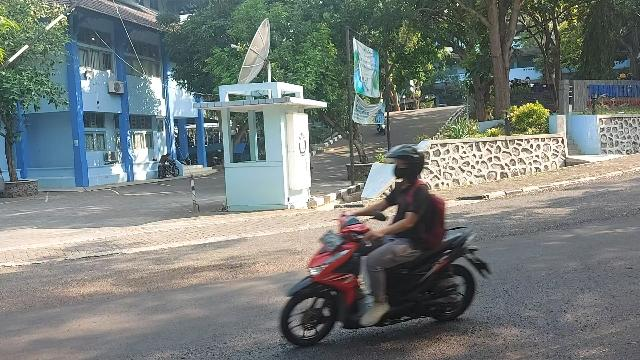helm: (386, 146, 425, 179)
motor: (281, 212, 493, 349)
